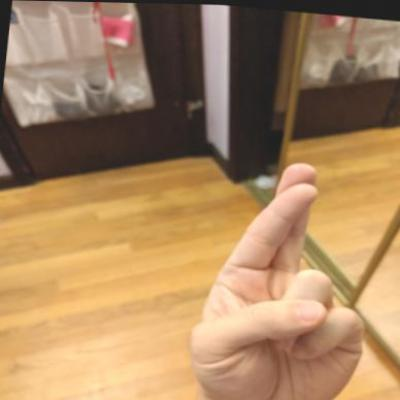hand: (176, 148, 391, 399)
